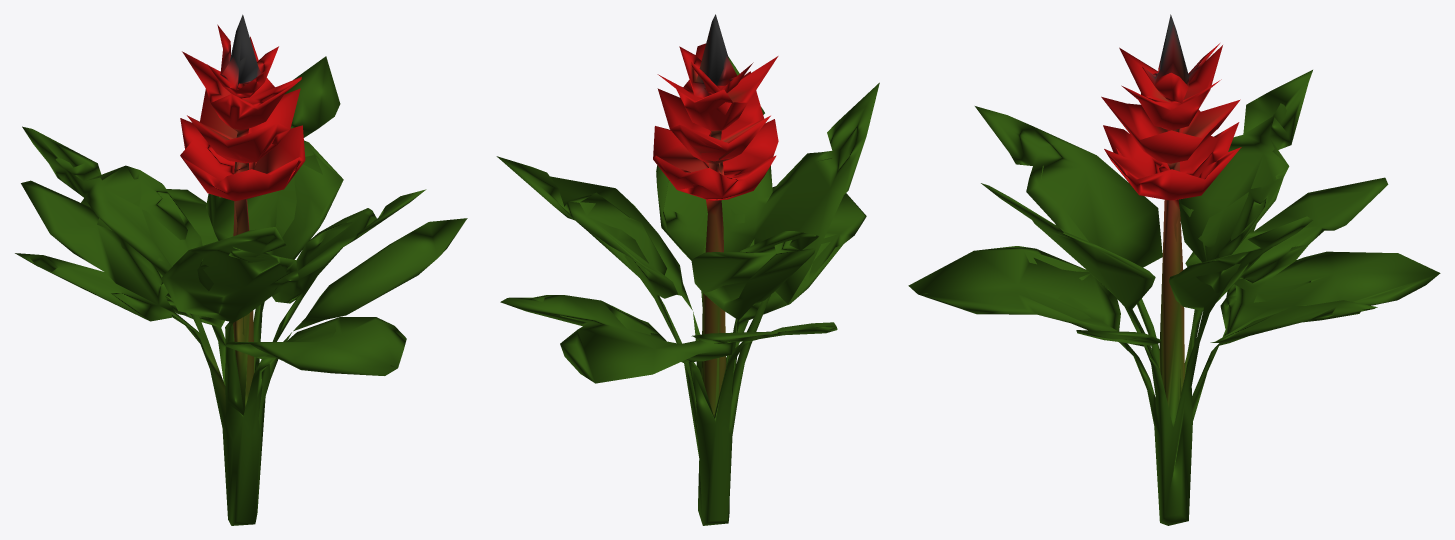
Rendered from gen3d-heliconia-lod1.glb.
3 views of the same model, side by side, from view 1: azimuth 30°, elevation 25°; view 2: azimuth 150°, elevation 25°; view 3: azimuth 270°, elevation 25° (orthographic).
Parts seen in each view (by area): view 1: part_0; view 2: part_0; view 3: part_0.
Part boxes in pixels (x1=…): part_0: x1=15, y1=14, x2=467, y2=525; part_0: x1=496, y1=14, x2=879, y2=525; part_0: x1=908, y1=14, x2=1440, y2=525.
Size of the model in its own units: 0.7634 by 0.9982 by 0.9514.
